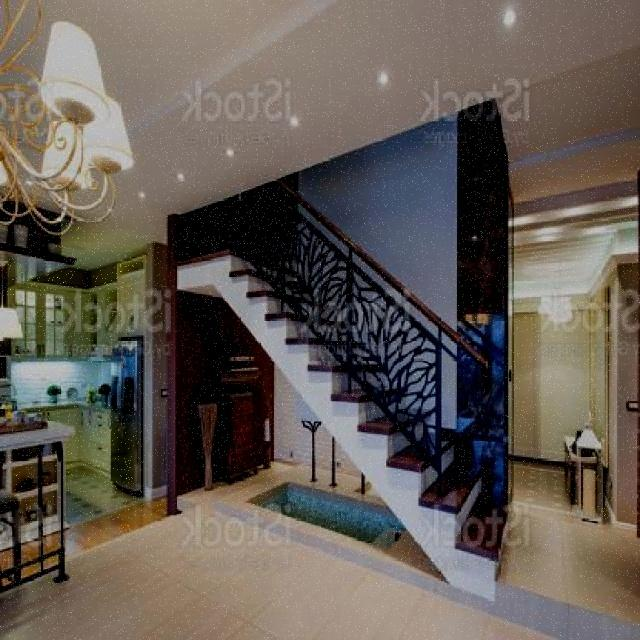stair: (177, 206, 500, 608)
